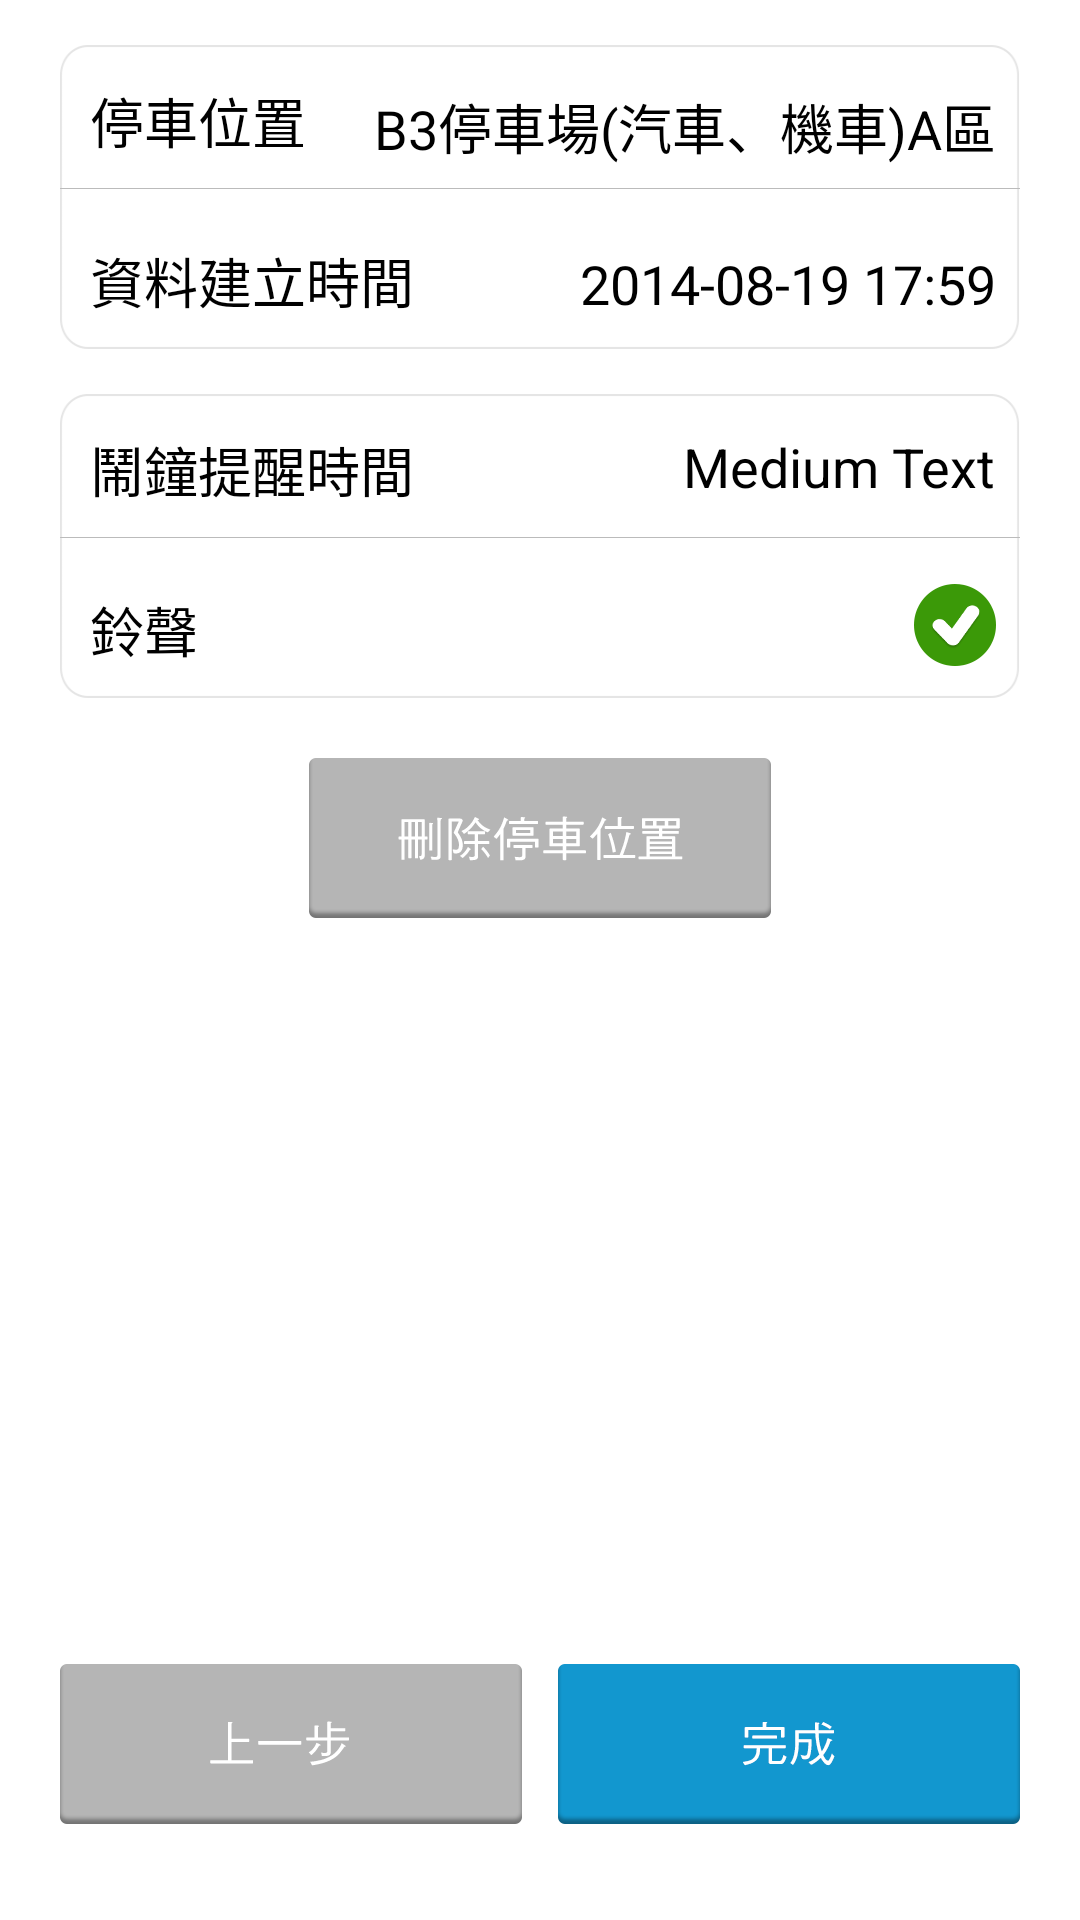

Locate icon controls on the screen. Image size 1080x1920, boxes as (x1, y1, x2, y2).
yes: (914, 584, 996, 666)
